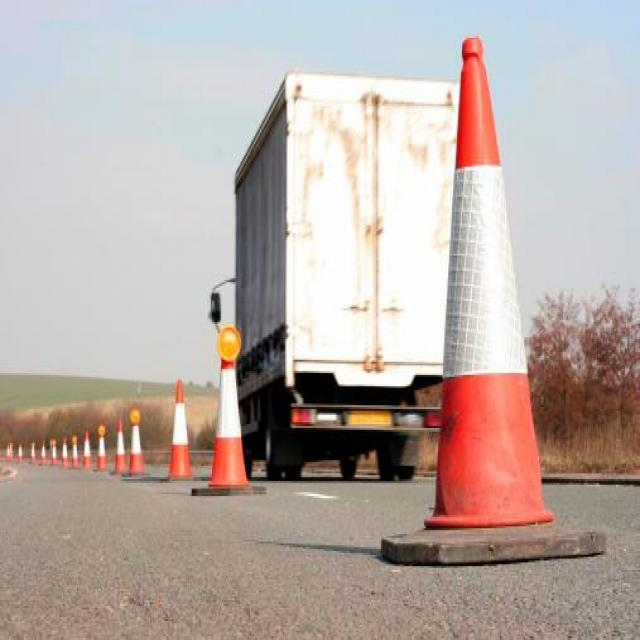Cone: (382, 36, 604, 564), (197, 328, 266, 496), (166, 379, 200, 479), (124, 407, 155, 483), (111, 418, 129, 474), (95, 426, 108, 470), (70, 436, 80, 470), (83, 430, 91, 466), (49, 439, 57, 462), (62, 437, 67, 464), (30, 443, 36, 462), (40, 441, 44, 464), (5, 443, 10, 460), (18, 441, 22, 462)
